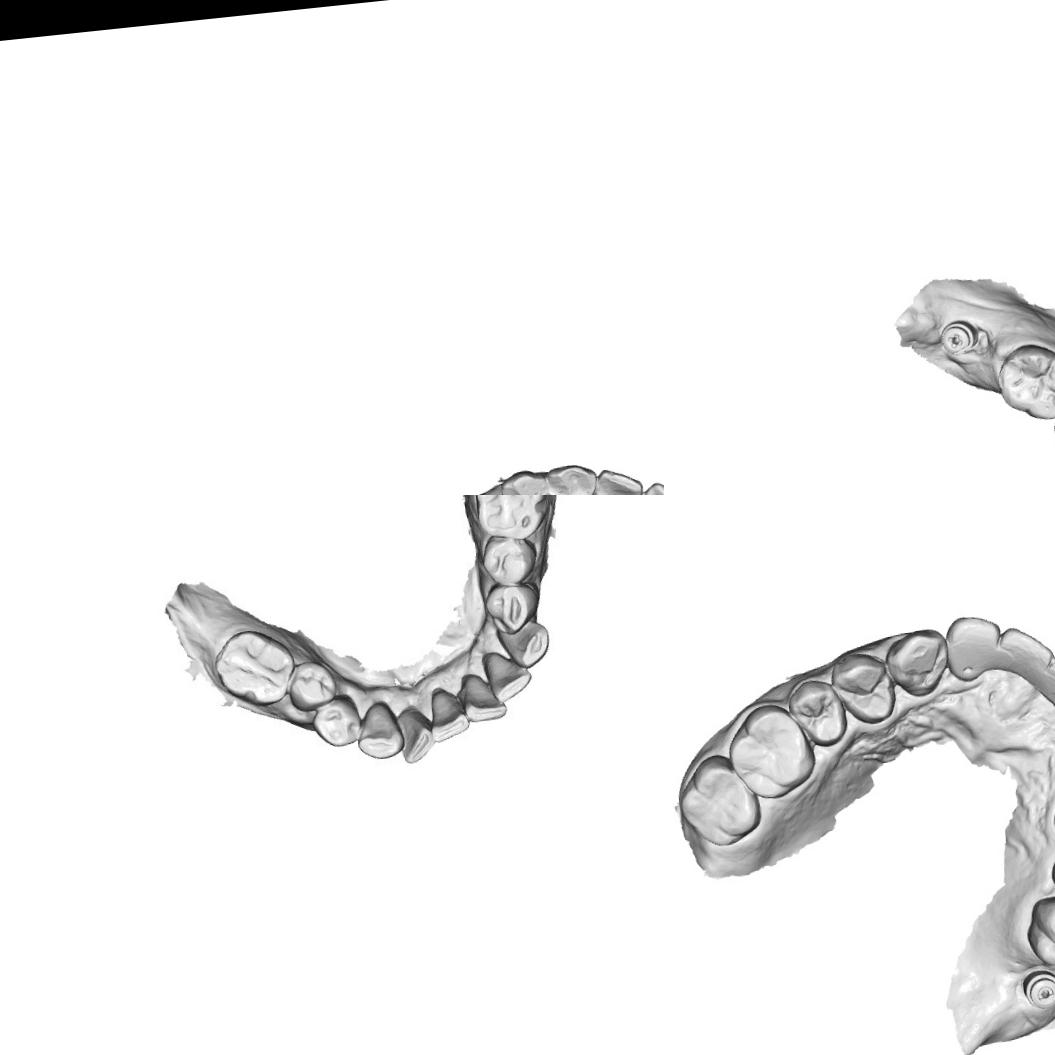canine: (880, 623, 952, 702), (500, 613, 552, 671), (355, 700, 404, 758), (545, 460, 600, 495)
implant_minus: (1017, 962, 1055, 1014)
implant_plus: (937, 317, 980, 356)
incisor: (938, 610, 1007, 686), (995, 621, 1055, 688), (456, 672, 508, 727), (484, 650, 533, 704), (394, 709, 440, 766), (427, 688, 469, 745), (590, 464, 647, 495), (1029, 650, 1055, 715)
molar: (722, 698, 821, 805), (671, 747, 768, 852), (215, 628, 298, 711), (993, 338, 1055, 425), (468, 495, 555, 544), (1022, 889, 1055, 972)
premolar: (826, 645, 901, 731), (786, 674, 851, 753), (481, 582, 539, 634), (476, 535, 532, 585), (313, 694, 363, 748), (287, 660, 336, 712), (498, 467, 552, 495)
